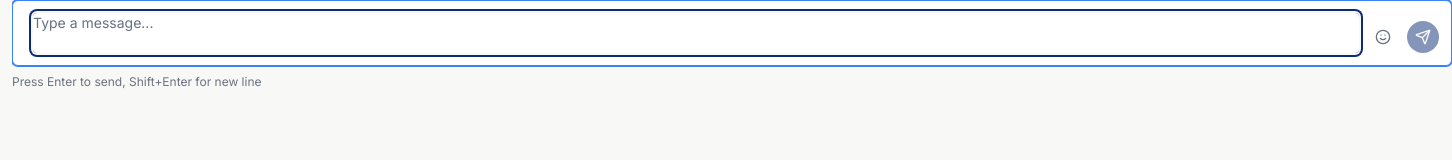
MessageInput › disables send when empty and enables when text is entered
Expected: the button named "send message" is disabled, [1407, 21, 1439, 53]
Type "Hello" into the text box at (696, 33), box [33, 13, 1359, 53]
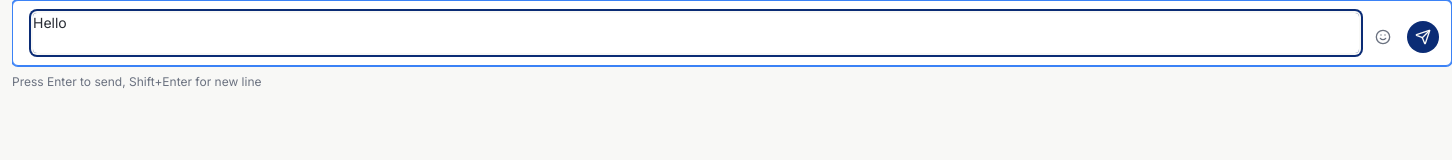
Expected: the button named "send message" is enabled, [1407, 21, 1439, 53]
